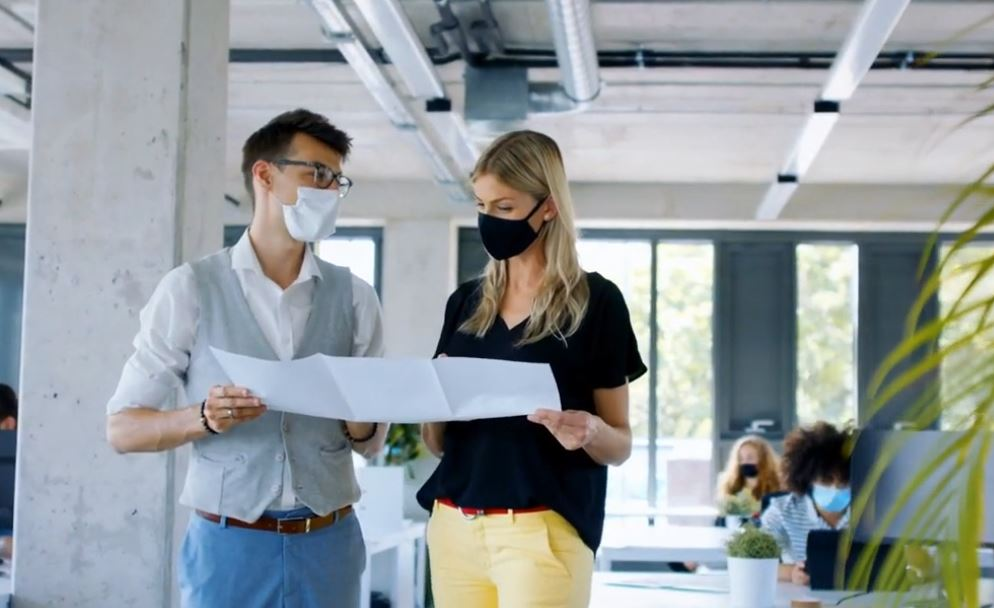with_mask: (283, 141, 344, 237), (474, 177, 529, 247), (817, 465, 845, 509), (740, 443, 754, 473)
